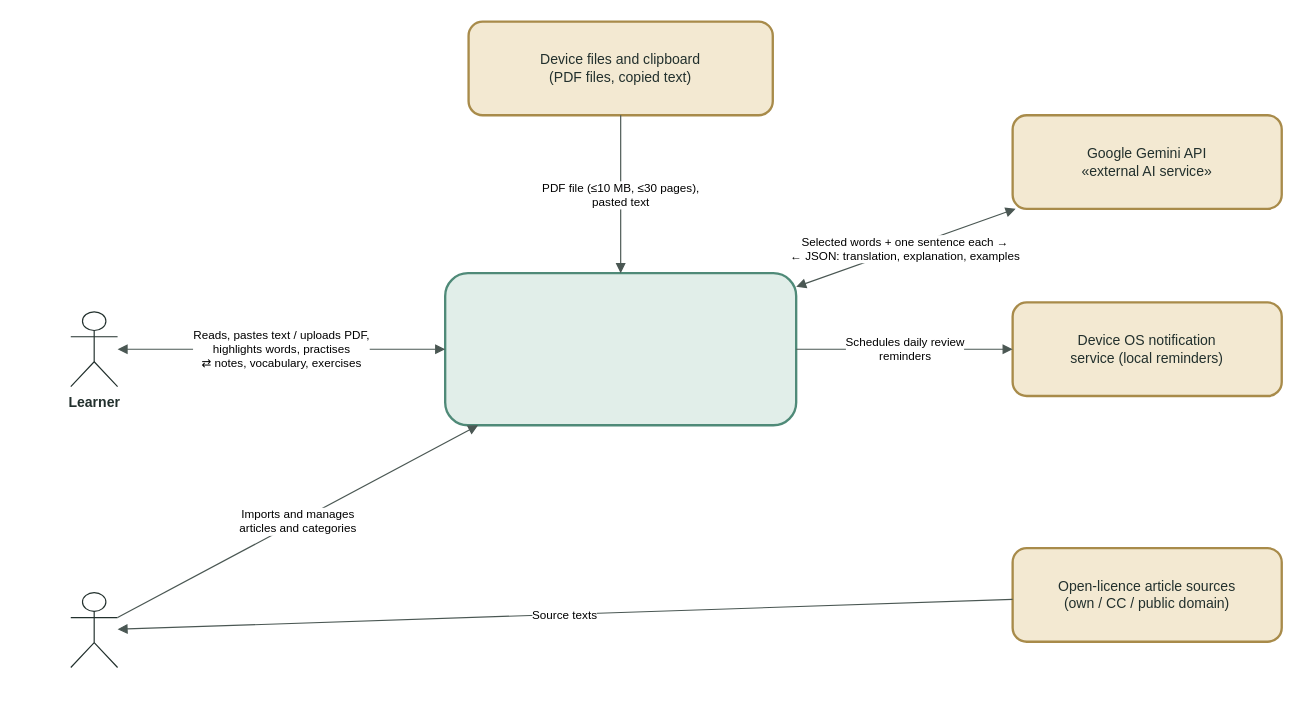
This 1303x711 diagram has some shape labels left out. Each missing label, with the centre of its shape:
Content Administrator: point (94, 629)
Lexi AI-powered English vocabulary app (React Native mobile app + backend): point (620, 348)
